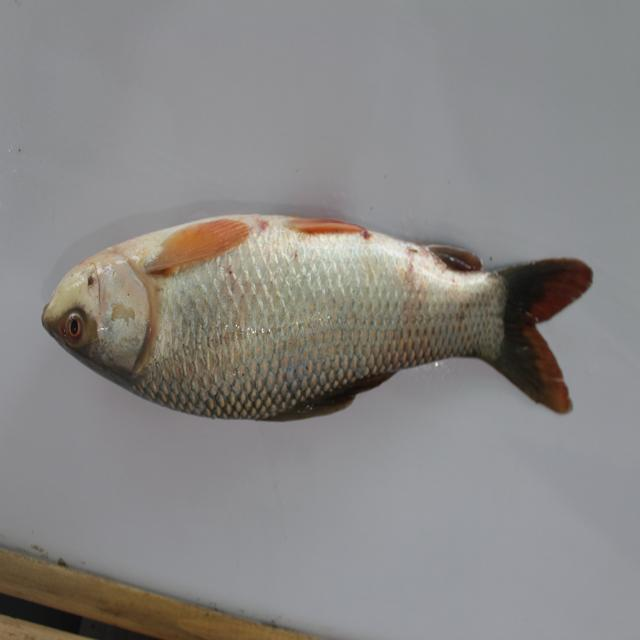Rohu: (38, 218, 588, 442)
